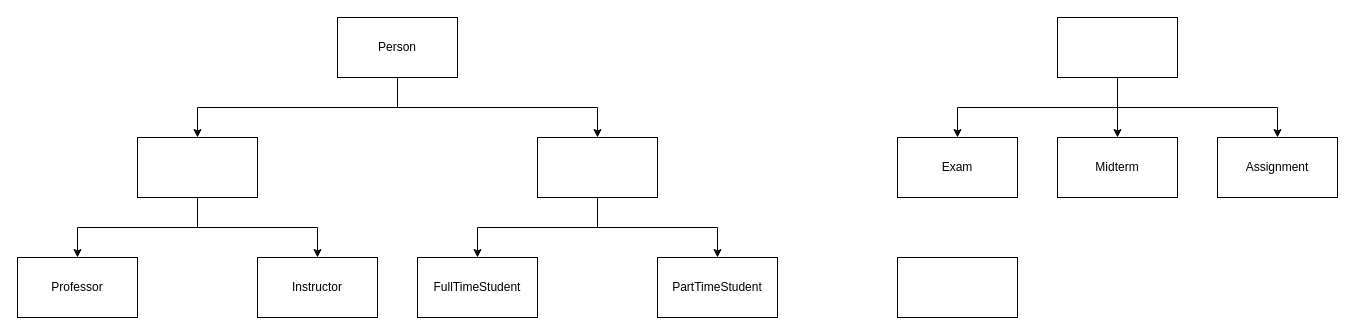
Image size: 1355x335. Some labels were removed from this diagram. Each missing label, with the centre of its shape:
Classroom: the point at 957,287
CourseWork: the point at 1117,47
Employee: the point at 197,167
Student: the point at 597,167
